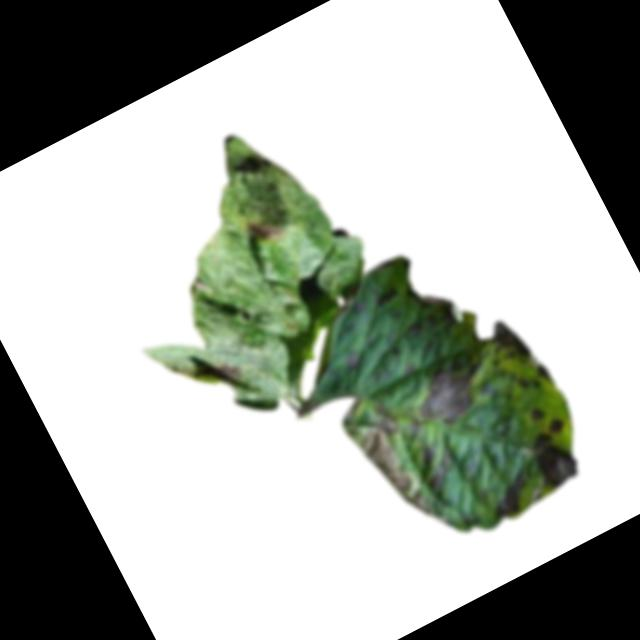Early_blight: (340, 399, 444, 536), (398, 347, 496, 437), (517, 423, 583, 494), (477, 313, 536, 378), (478, 468, 539, 525), (414, 436, 465, 494), (236, 205, 287, 254), (515, 359, 556, 396), (212, 354, 245, 388), (370, 282, 403, 310), (337, 348, 363, 375), (543, 415, 565, 436), (526, 403, 547, 424)
